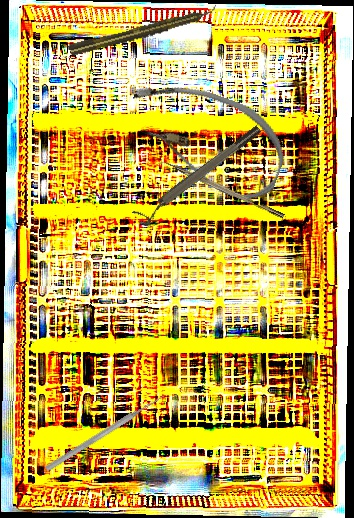Cannula: (113, 68, 297, 209)
Chopper: (156, 156, 285, 225)
Fixation Ring: (131, 122, 268, 230)
Handpiece: (66, 4, 220, 58)
Pusher: (44, 391, 167, 474)
